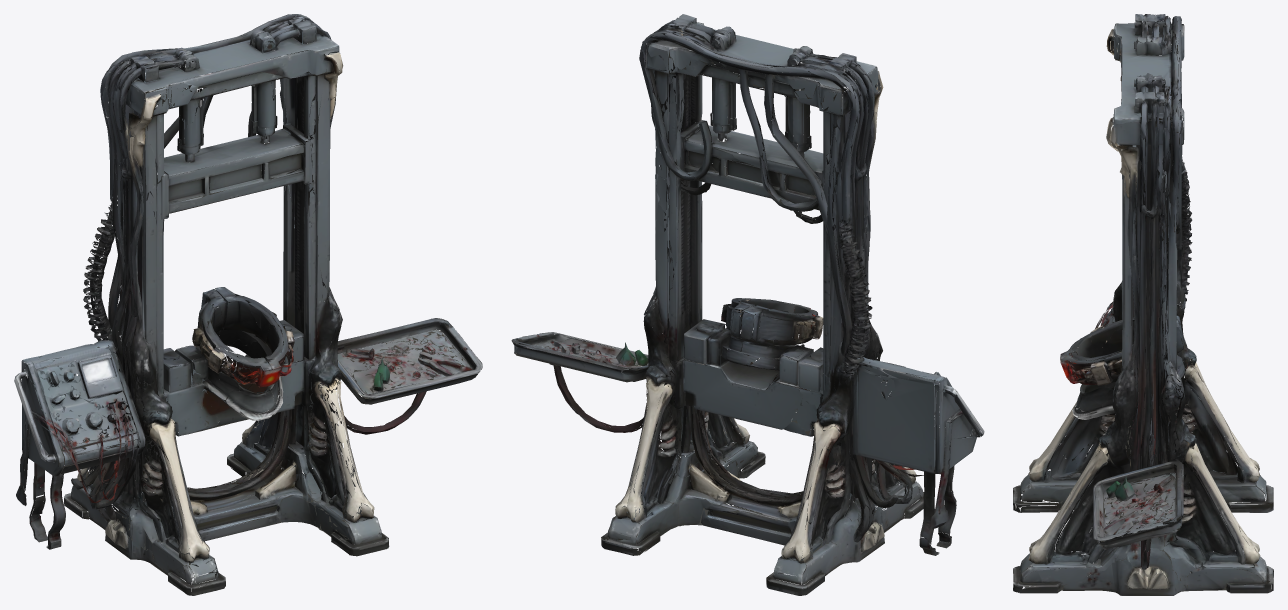
Rendered from corp_compliance_choker_bench.glb.
3 views of the same model, side by side, from view 1: azimuth 30°, elevation 25°; view 2: azimuth 150°, elevation 25°; view 3: azimuth 270°, elevation 25° (orthographic).
Parts seen in each view (by area): view 1: node_0; view 2: node_0; view 3: node_0.
Boxes of the visible parts, box(x1,y1,x2,y2) form: node_0: box(14, 14, 482, 595); node_0: box(511, 14, 984, 595); node_0: box(1013, 14, 1273, 595).
Bounding box in the file's own units: 0.911 × 0.9575 × 0.4637.
1 material, 1 textured.
